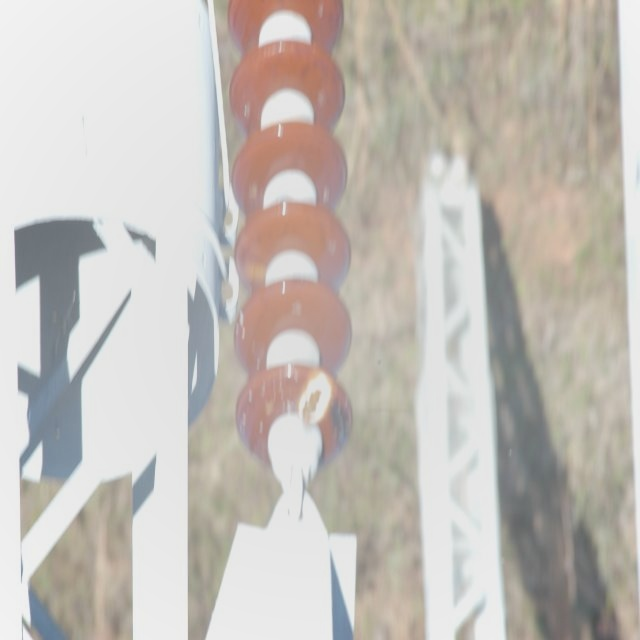insulator: (226, 0, 353, 469)
